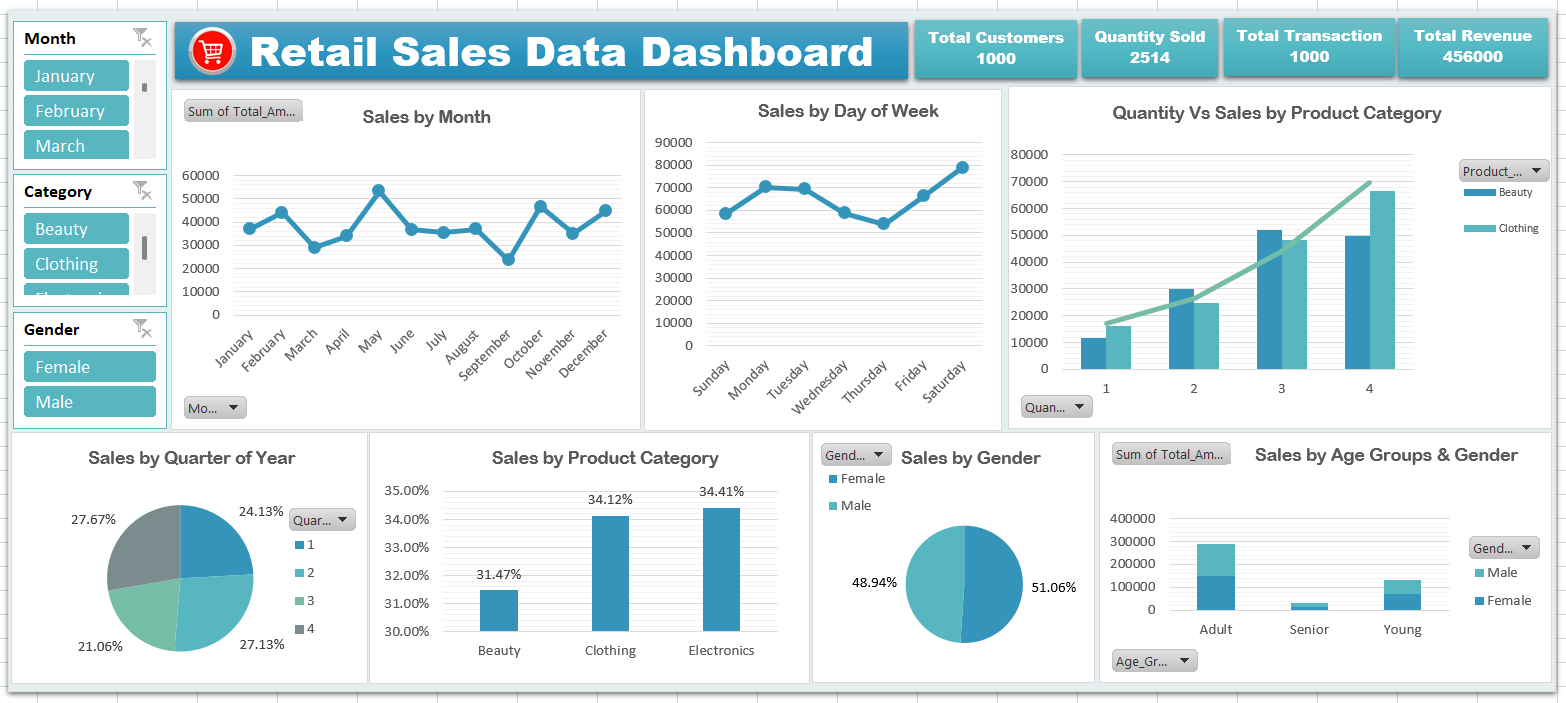

What the dashboard file says about the page in this screenshot:
{"tool":"powerbi","page":{"name":"Dashboard","canvas":[1280,720],"ordinal":0},"visuals":[{"type":"textbox","box":[8.6,8.6,566.2,51.4],"z":0},{"type":"card","title":"Total Sales","fields":{"Values":["retail_sales_dataset.Revenue"]},"box":[1158,8.6,112.5,51.4],"z":1000},{"type":"card","title":"Quantity Sold","fields":{"Values":["retail_sales_dataset.Quantity_Sold"]},"box":[1010.1,8.6,139.4,50.1],"z":2000},{"type":"card","title":"Transactions","fields":{"Values":["retail_sales_dataset.Total_Transaction"]},"box":[869.4,9.8,130.8,50.1],"z":3000},{"type":"slicer","fields":{"Values":["retail_sales_dataset.Date.Variation.Date Hierarchy.Month"]},"box":[584.5,9.8,130.8,48.9],"z":4000},{"type":"slicer","fields":{"Values":["retail_sales_dataset.Day_of_Week"]},"box":[725.1,9.8,135.7,50.1],"z":5000},{"type":"image","box":[0,8.6,94.2,50.1],"z":6000},{"type":"clusteredColumnChart","title":"Revenue by Product Category","fields":{"Category":["retail_sales_dataset.Product_Category"],"Y":["Sum(retail_sales_dataset.Total_Amount)"]},"box":[343.6,64.8,351,215.2],"z":6001},{"type":"lineChart","title":"Revenue by Month","fields":{"Y":["Sum(retail_sales_dataset.Total_Amount)"],"Category":["retail_sales_dataset.Date.Variation.Date Hierarchy.Month"]},"box":[703.1,64.8,567.4,294.7],"z":6002},{"type":"donutChart","title":"Customers by Gender","fields":{"Category":["retail_sales_dataset.Gender"],"Y":["Sum(retail_sales_dataset.Total_Amount)"]},"box":[9.8,64.8,324.1,215.2],"z":6003},{"type":"lineChart","title":"Revenue by Quarter of Year","fields":{"Category":["retail_sales_dataset.Date.Variation.Date Hierarchy.Quarter"],"Y":["Sum(retail_sales_dataset.Total_Amount)"]},"box":[8.6,503.8,686,205.4],"z":6004},{"type":"treemap","title":"Revenue by Day of Week","fields":{"Values":["Sum(retail_sales_dataset.Total_Amount)"],"Group":["retail_sales_dataset.Day_of_Week"]},"box":[703.1,370.5,567.4,338.7],"z":6005},{"type":"clusteredBarChart","title":"Revenue by Age Group & Gender","fields":{"Category":["retail_sales_dataset.Age_Group"],"Series":["retail_sales_dataset.Gender"],"Y":["Sum(retail_sales_dataset.Total_Amount)"]},"box":[9.8,289.8,684.8,201.8],"z":6006}]}

Visuals, with their boxes on the page's 1280x720 design canvas (x1, y1, x2, y2). These are canvas units, not pixel positions in the 1566x703 screenshot, which may show the page scaled, cropped or inside an application window:
textbox: locate(9, 9, 575, 60)
"Total Sales" card: locate(1158, 9, 1270, 60)
"Quantity Sold" card: locate(1010, 9, 1150, 59)
"Transactions" card: locate(869, 10, 1000, 60)
slicer - retail_sales_dataset.Date.Variation.Date Hierarchy.Month: locate(584, 10, 715, 59)
slicer - retail_sales_dataset.Day_of_Week: locate(725, 10, 861, 60)
image: locate(0, 9, 94, 59)
"Revenue by Product Category" clusteredColumnChart: locate(344, 65, 695, 280)
"Revenue by Month" lineChart: locate(703, 65, 1270, 360)
"Customers by Gender" donutChart: locate(10, 65, 334, 280)
"Revenue by Quarter of Year" lineChart: locate(9, 504, 695, 709)
"Revenue by Day of Week" treemap: locate(703, 370, 1270, 709)
"Revenue by Age Group & Gender" clusteredBarChart: locate(10, 290, 695, 492)
